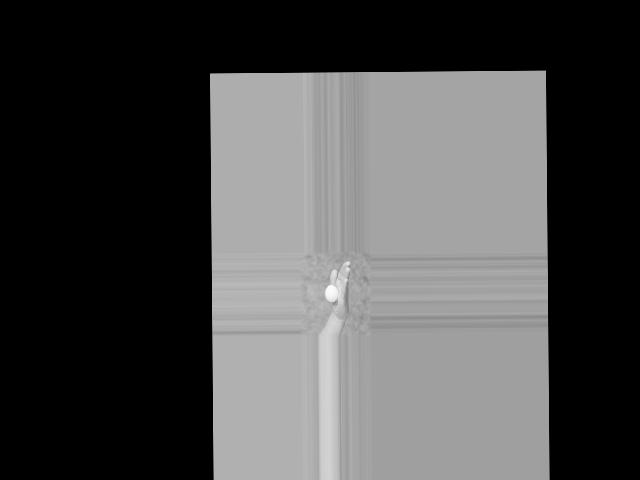egg: (324, 285, 338, 302)
